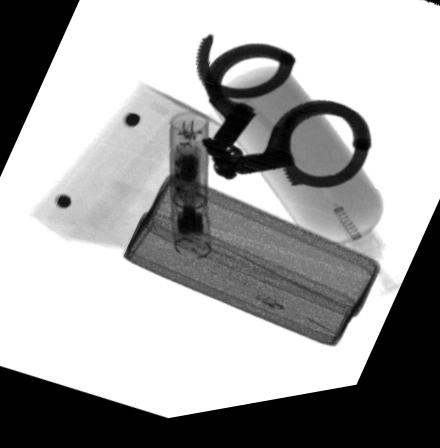Baton: (167, 113, 213, 268)
HandCuffs: (193, 39, 372, 201)
